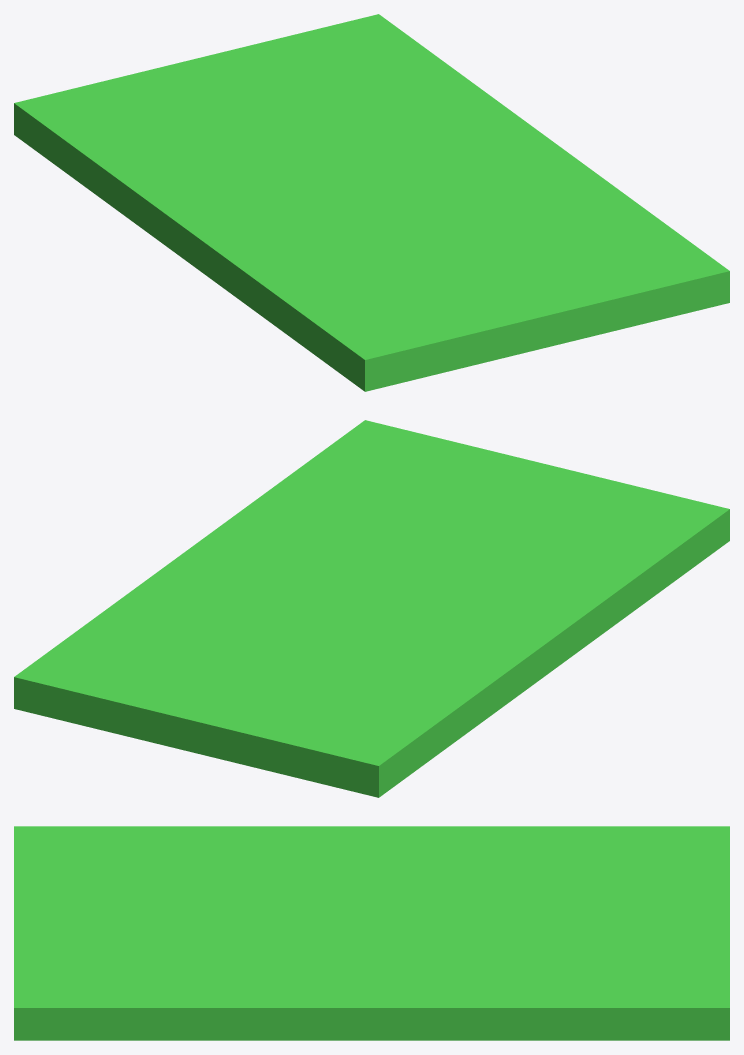
The model's file is desk.obj.
3 renders of one model, top to bottom at view 1: azimuth 30°, elevation 25°; view 2: azimuth 150°, elevation 25°; view 3: azimuth 270°, elevation 25°, orthographic.
Parts seen in each view (by area): view 1: Box001; view 2: Box001; view 3: Box001.
Part boxes in pixels (box(x1,y1,x2,y2)): Box001: box(14, 14, 729, 391); Box001: box(14, 420, 729, 797); Box001: box(14, 826, 729, 1040).
Bounding box in the file's own units: 6 × 0.5 × 10.
